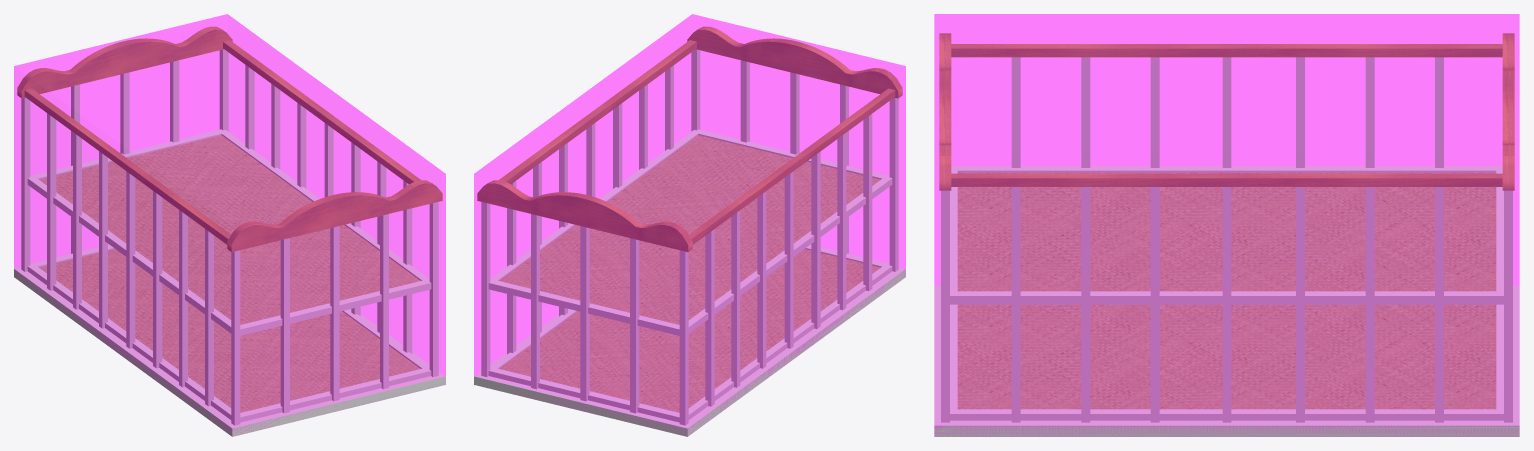
The model's file is baby_bed.fbx.
3 views of the same model, side by side, from view 1: azimuth 30°, elevation 25°; view 2: azimuth 150°, elevation 25°; view 3: azimuth 270°, elevation 25° (orthographic). The views are drawn at different scales.
Parts seen in each view (by area): view 1: boundingbox, baby_bed; view 2: boundingbox, baby_bed; view 3: boundingbox, baby_bed.
Boxes of the visible parts, <box> form: boundingbox: <box>14,14,445,434</box>; baby_bed: <box>14,26,445,436</box>; boundingbox: <box>474,14,905,436</box>; baby_bed: <box>474,26,905,436</box>; boundingbox: <box>934,14,1519,436</box>; baby_bed: <box>934,33,1519,436</box>.
Bounding box in the file's own units: 32.29 × 30.53 × 57.17.
Materials: 4 (2 with a texture image).
